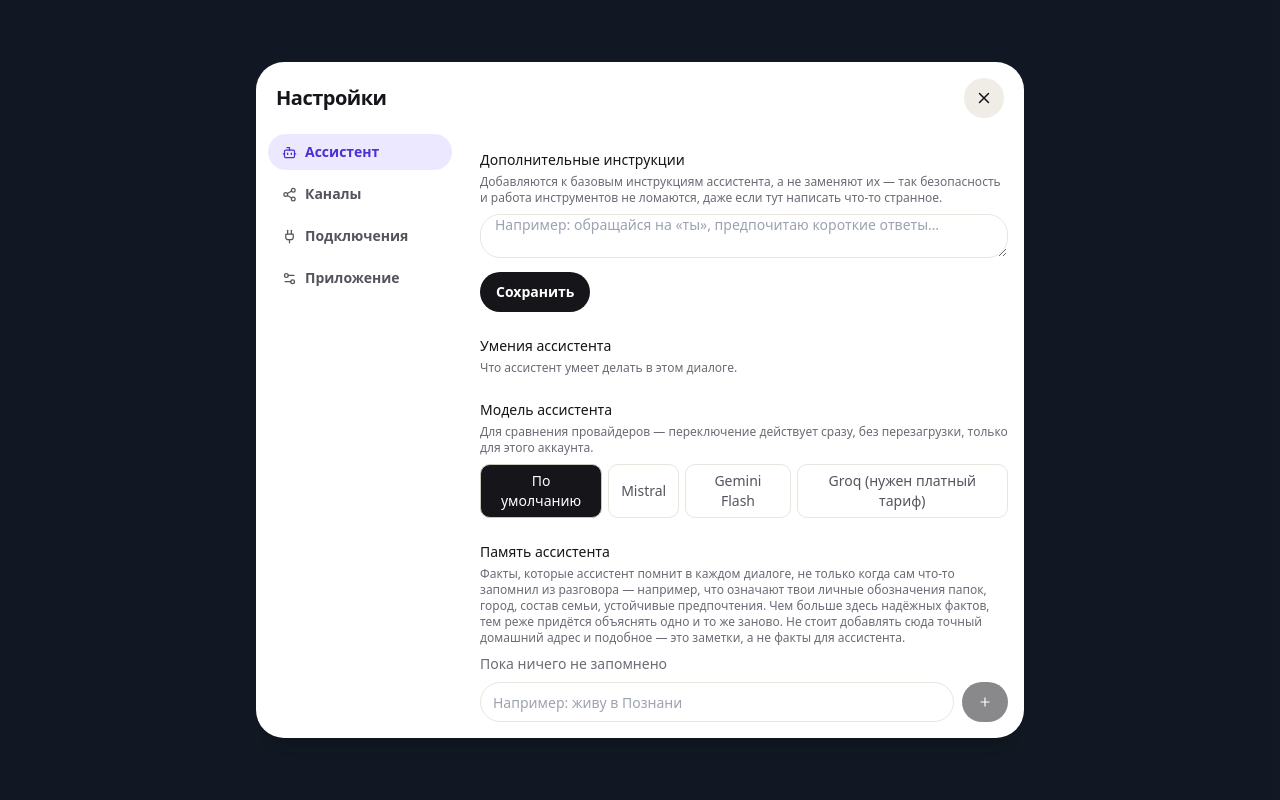
Scenario: переход по разделам › клик по разделу показывает его и прячет прежний
Click the button "Каналы": x=360, y=194 [268,176,452,212]
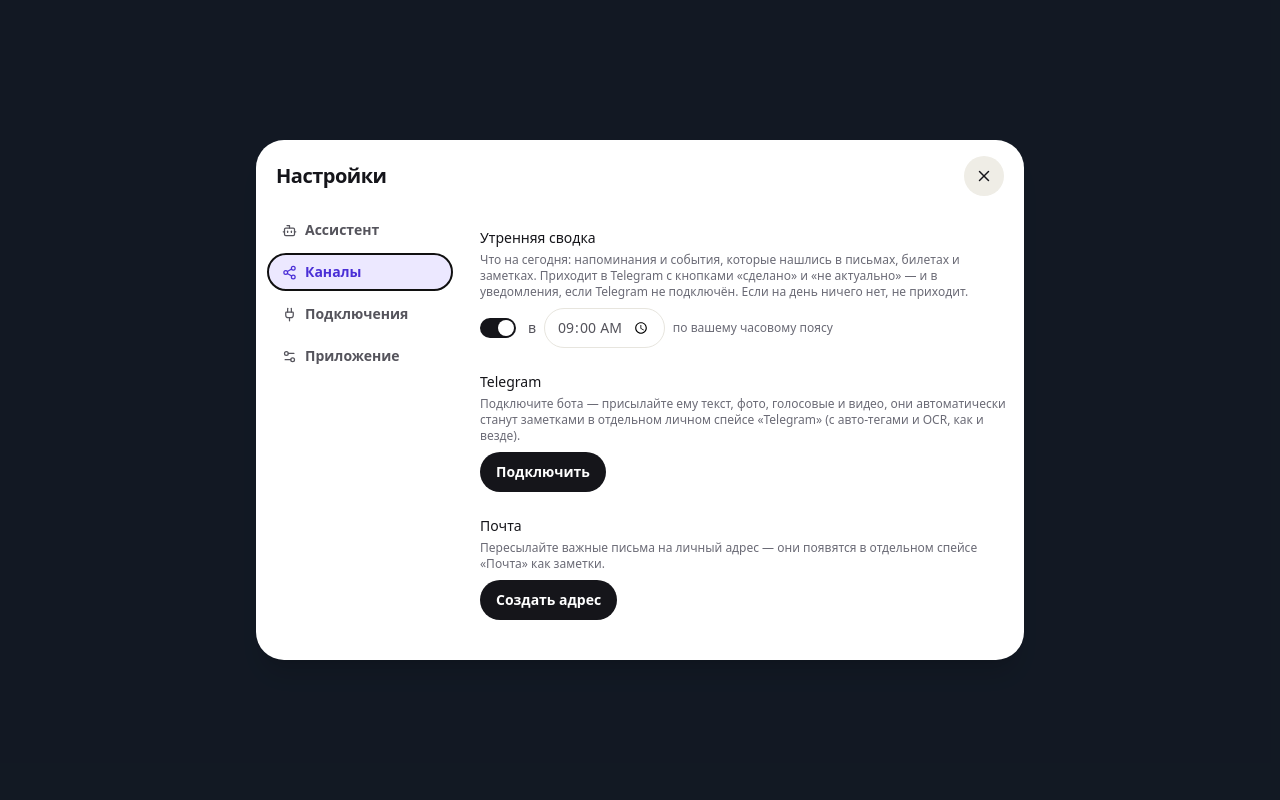
Expected: the text "Почта" is shown, [480,516,522,535]
Expected: the text "Дополнительные инструкции" is gone
